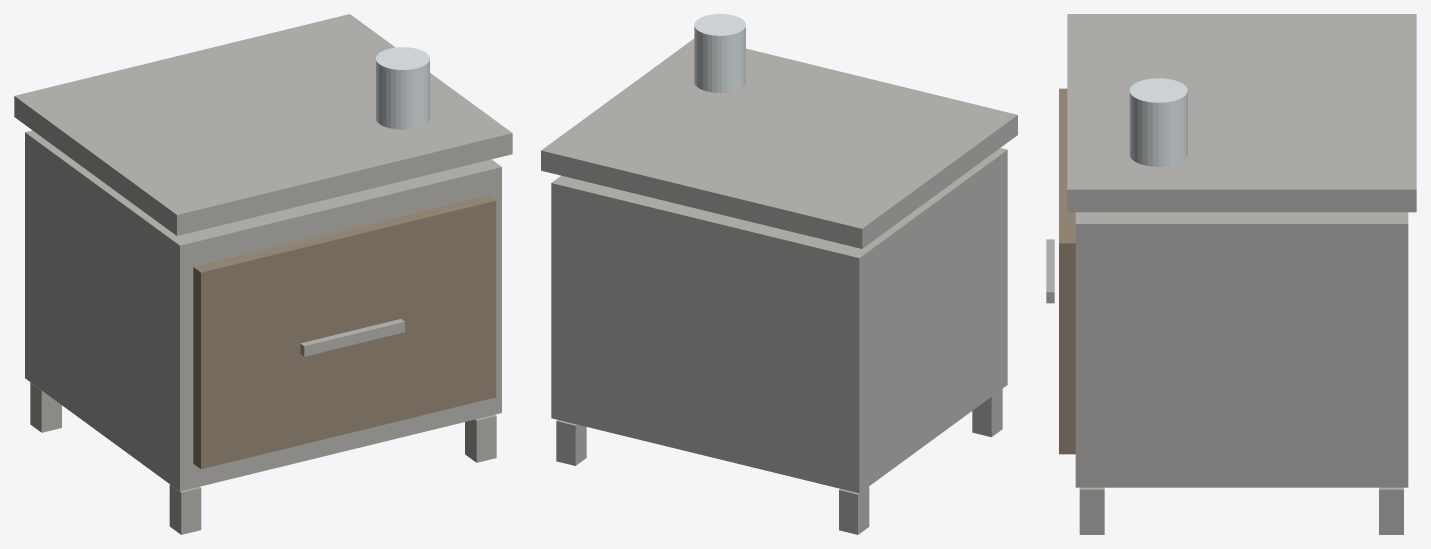
File: prop_side_table.fbx
3 views of the same model, side by side, from view 1: azimuth 30°, elevation 25°; view 2: azimuth 150°, elevation 25°; view 3: azimuth 270°, elevation 25° (orthographic). The views are drawn at different scales.
Parts seen in each view (by area): view 1: ST_Drawer, ST_Body, ST_Top, ST_Cup, ST_Handle, ST_Leg-0.22-0.18, ST_Leg0.22-0.18, ST_Leg-0.220.18; view 2: ST_Body, ST_Top, ST_Cup, ST_Leg-0.220.18, ST_Leg0.220.18, ST_Leg-0.22-0.18; view 3: ST_Body, ST_Top, ST_Drawer, ST_Cup, ST_Leg0.22-0.18, ST_Leg0.220.18, ST_Handle.
Part boxes in pixels (x1,y1,x2,y2): ST_Drawer: (193,195,496,469); ST_Body: (25,130,501,491); ST_Top: (14,14,512,235); ST_Cup: (376,47,429,129); ST_Handle: (300,319,404,356); ST_Leg-0.22-0.18: (169,484,201,534); ST_Leg0.22-0.18: (465,414,496,462); ST_Leg-0.220.18: (30,382,61,432); ST_Body: (551,148,1007,493); ST_Top: (541,38,1017,248); ST_Cup: (694,14,745,92); ST_Leg-0.220.18: (839,487,869,534); ST_Leg0.220.18: (556,420,586,465); ST_Leg-0.22-0.18: (972,389,1002,437); ST_Body: (1075,212,1408,487); ST_Top: (1067,14,1416,212); ST_Drawer: (1059,88,1075,454); ST_Cup: (1129,78,1187,166); ST_Leg0.22-0.18: (1079,487,1104,534); ST_Leg0.220.18: (1379,487,1403,534); ST_Handle: (1046,239,1054,303).
Bounding box in the file's own units: 50 × 55 × 44.5.
